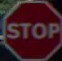Stop: (2, 2, 61, 56)
